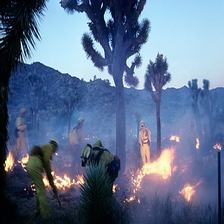fire: (126, 147, 204, 205), (3, 147, 32, 176), (51, 168, 85, 192), (165, 129, 207, 146)
